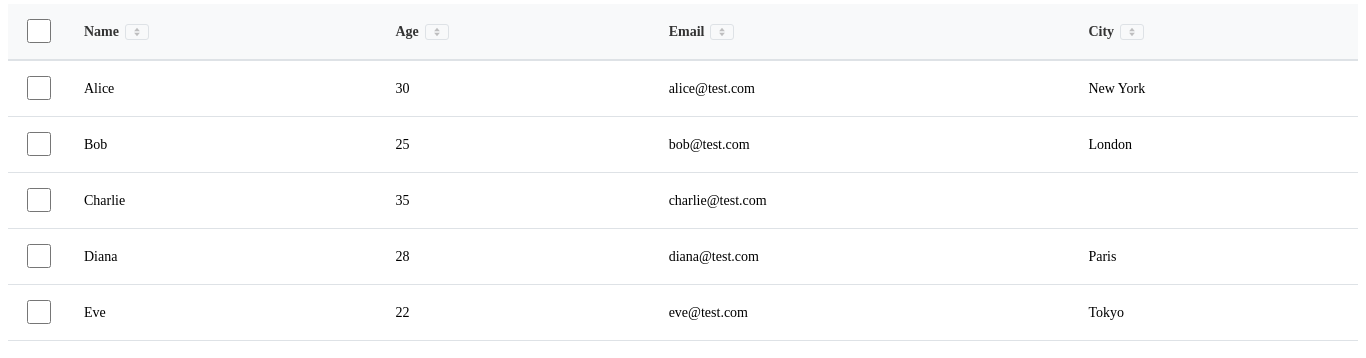
Table Component › Selection › select-all selects all visible rows
Click the checkbox named "Select all rows".
click(39, 31)  # box [27, 19, 51, 43]
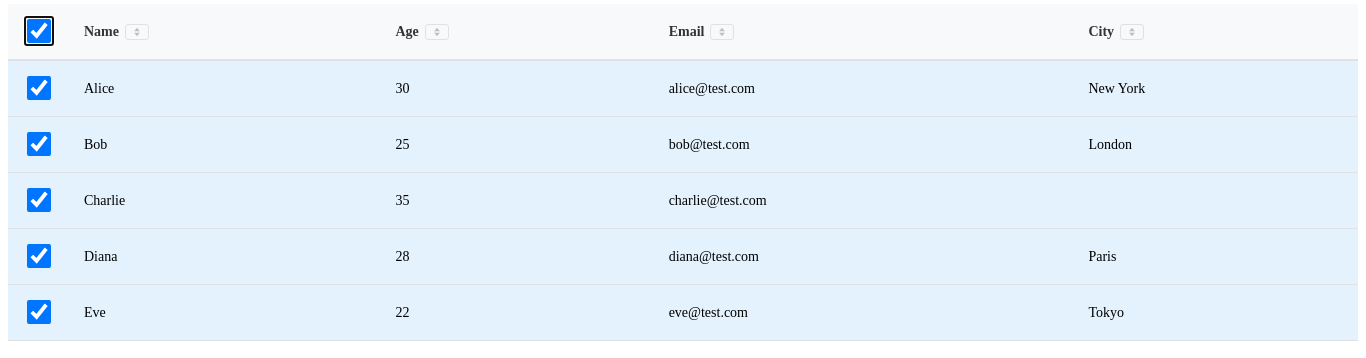
Expected: the checkbox named "Select row 1" is checked, [27, 76, 51, 100]
Expected: the checkbox named "Select row 2" is checked, [27, 132, 51, 156]
Expected: the checkbox named "Select row 3" is checked, [27, 188, 51, 212]
